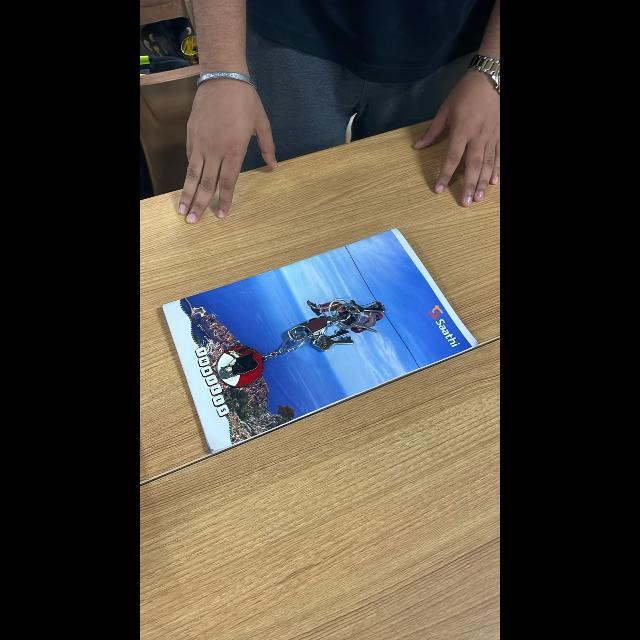keys: (210, 292, 406, 402)
